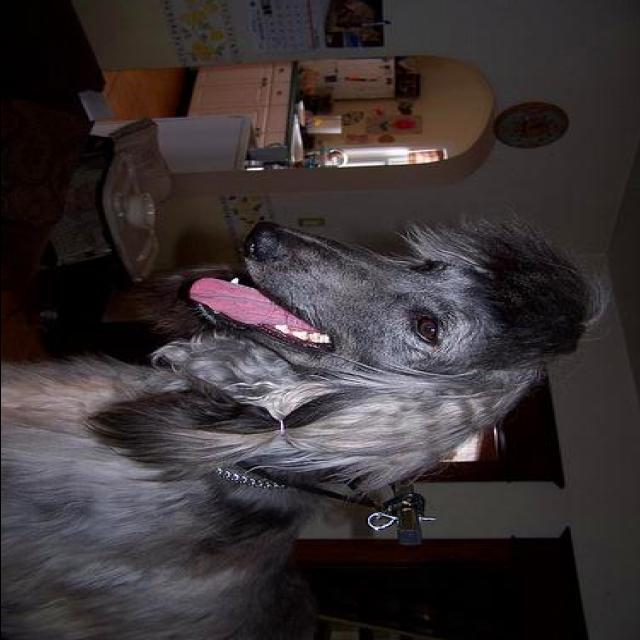afghan_hound: (1, 211, 612, 639)
